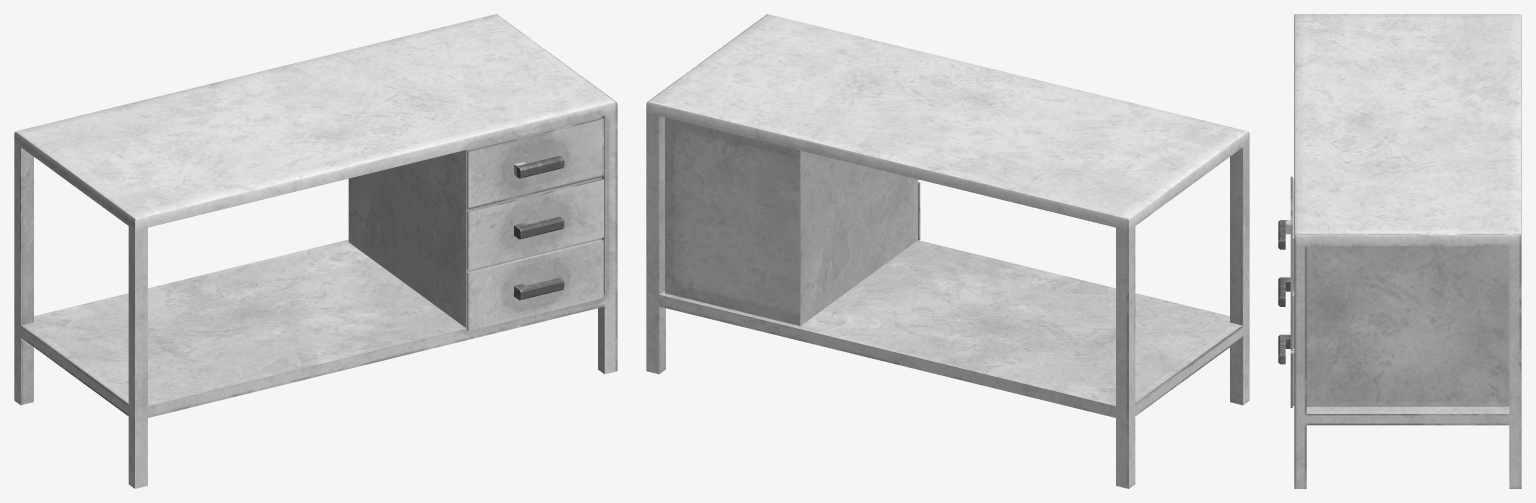
Rendered from Bancada de inox2.fbx.
The picture shows the model from 3 angles, left to right: view 1: azimuth 30°, elevation 25°; view 2: azimuth 150°, elevation 25°; view 3: azimuth 270°, elevation 25°; orthographic projection. The views are drawn at different scales.
Parts seen in each view (by area): view 1: Cube, Cube.001; view 2: Cube, Cube.001; view 3: Cube, Cube.001.
Boxes of the visible parts, x1,y1,x2,y2 form: Cube: (14, 14, 617, 488); Cube.001: (348, 117, 603, 331); Cube: (646, 14, 1249, 488); Cube.001: (665, 117, 920, 326); Cube: (1294, 14, 1521, 488); Cube.001: (1278, 176, 1509, 407).
Bounding box in the file's own units: 170 × 90.73 × 78.69.
